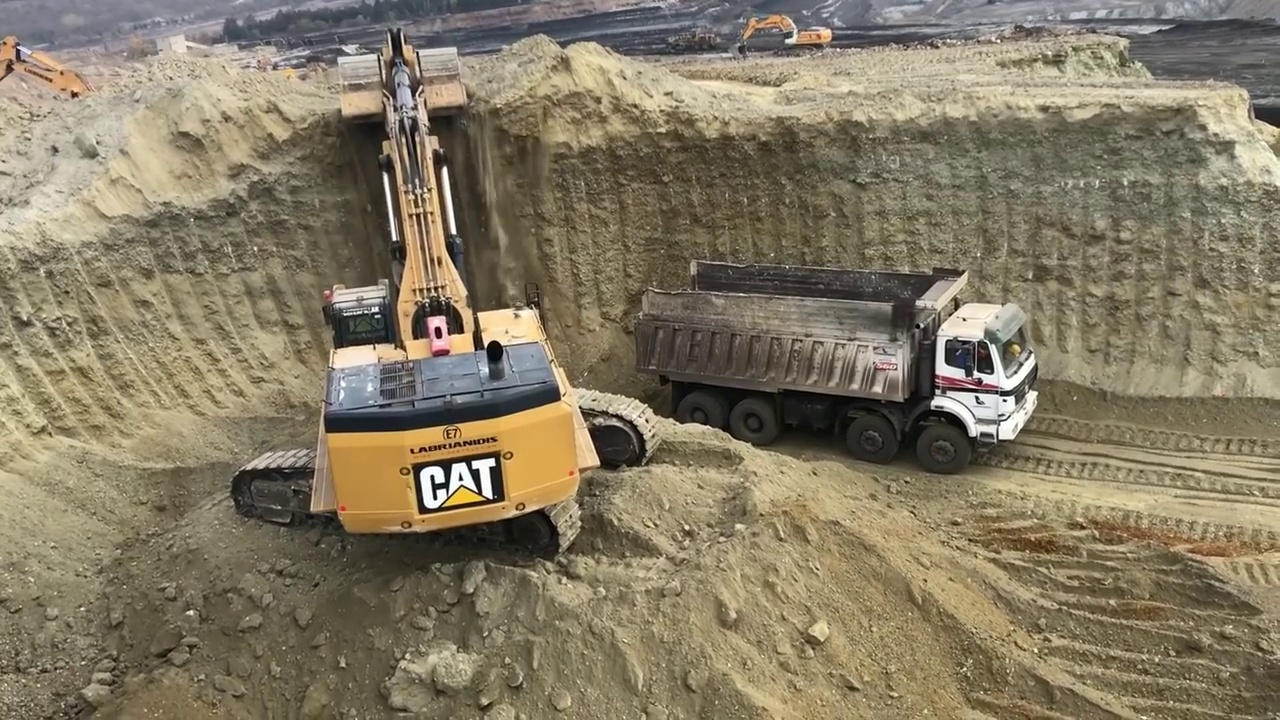excavator: (235, 28, 661, 563), (1, 33, 100, 110), (729, 15, 832, 57)
truck: (639, 256, 1041, 469)
